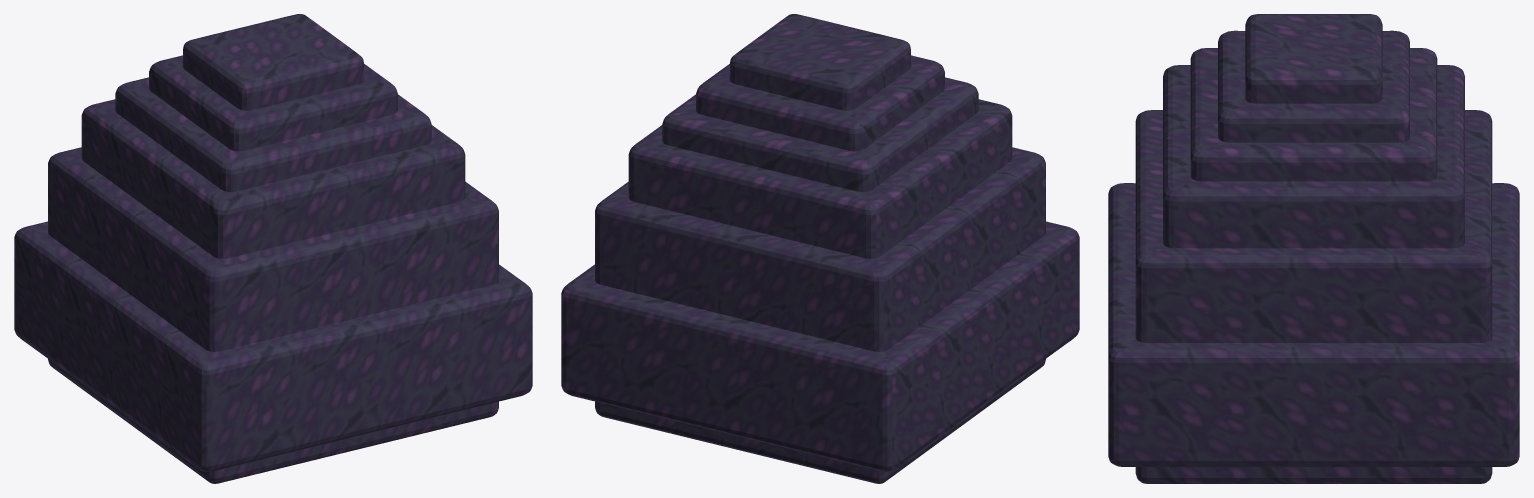
Rendered from egg.obj.
3 renders of one model, left to right at view 1: azimuth 30°, elevation 25°; view 2: azimuth 150°, elevation 25°; view 3: azimuth 270°, elevation 25°, orthographic. The views are drawn at different scales.
Parts seen in each view (by area): view 1: defaultMaterial; view 2: defaultMaterial; view 3: defaultMaterial.
Boxes of the visible parts, <box> form: defaultMaterial: <box>14,14,532,483</box>; defaultMaterial: <box>561,14,1079,483</box>; defaultMaterial: <box>1108,14,1519,483</box>.
Bounding box in the file's own units: 2 × 1.98 × 2.
Materials: 1 (1 with a texture image).
